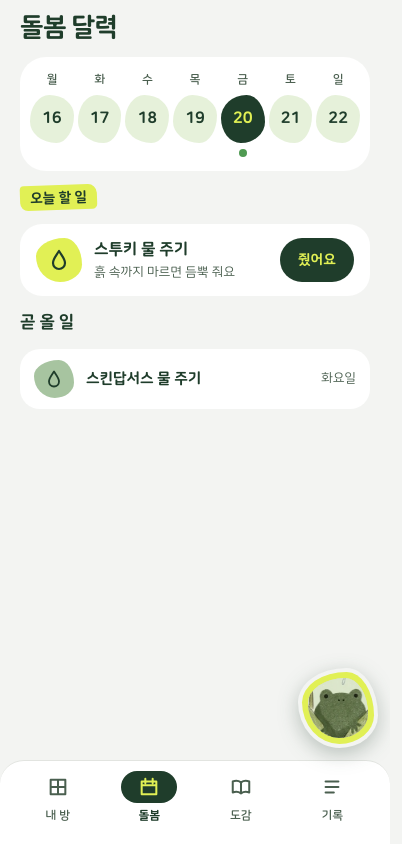
Scenario: care, log and discover › shows due and upcoming work on the calendar and logs what was done
Expected: the text "스투키 물 주기" is shown, [94, 240, 188, 258]
Expected: the link "스킨답서스 물 주기" is shown, [20, 348, 370, 408]
Click the button "줬어요": (317, 260) [280, 238, 354, 282]
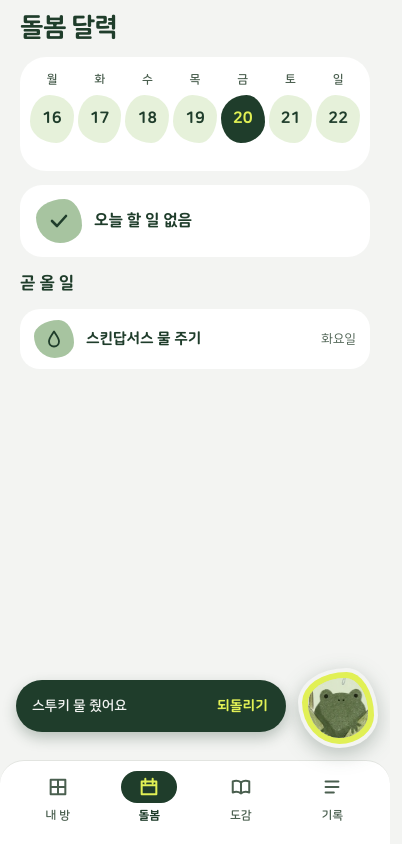
Expected: the text "오늘 할 일 없음" is shown, [94, 209, 192, 232]
Click the link "기록": (332, 799) [321, 776, 343, 822]
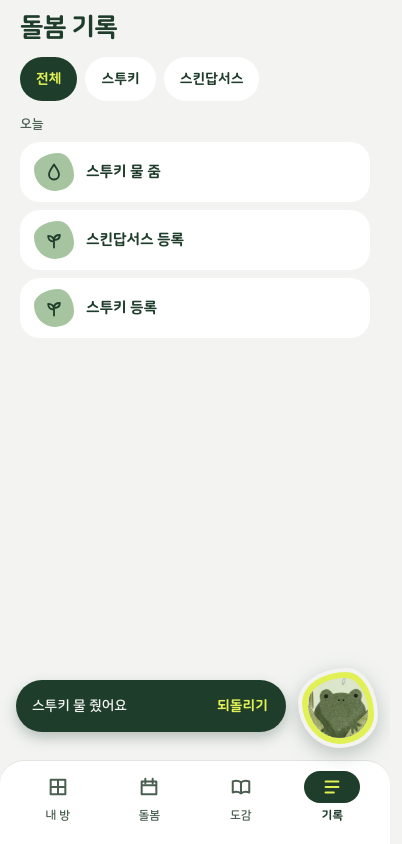
Expected: the text "스투키 물 줌" is shown, [86, 163, 161, 180]
Click the button "스킨답서스": (212, 79) [164, 57, 259, 101]
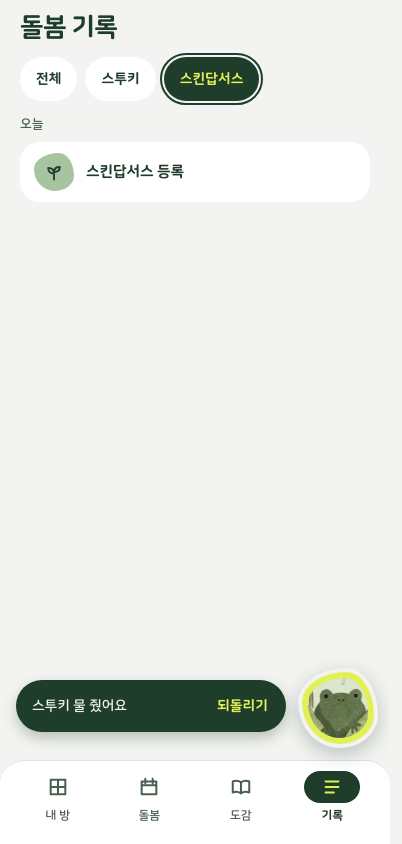
Expected: the text "스킨답서스 등록" is shown, [86, 163, 184, 180]
Expected: the text "스투키 물 줌" is gone
